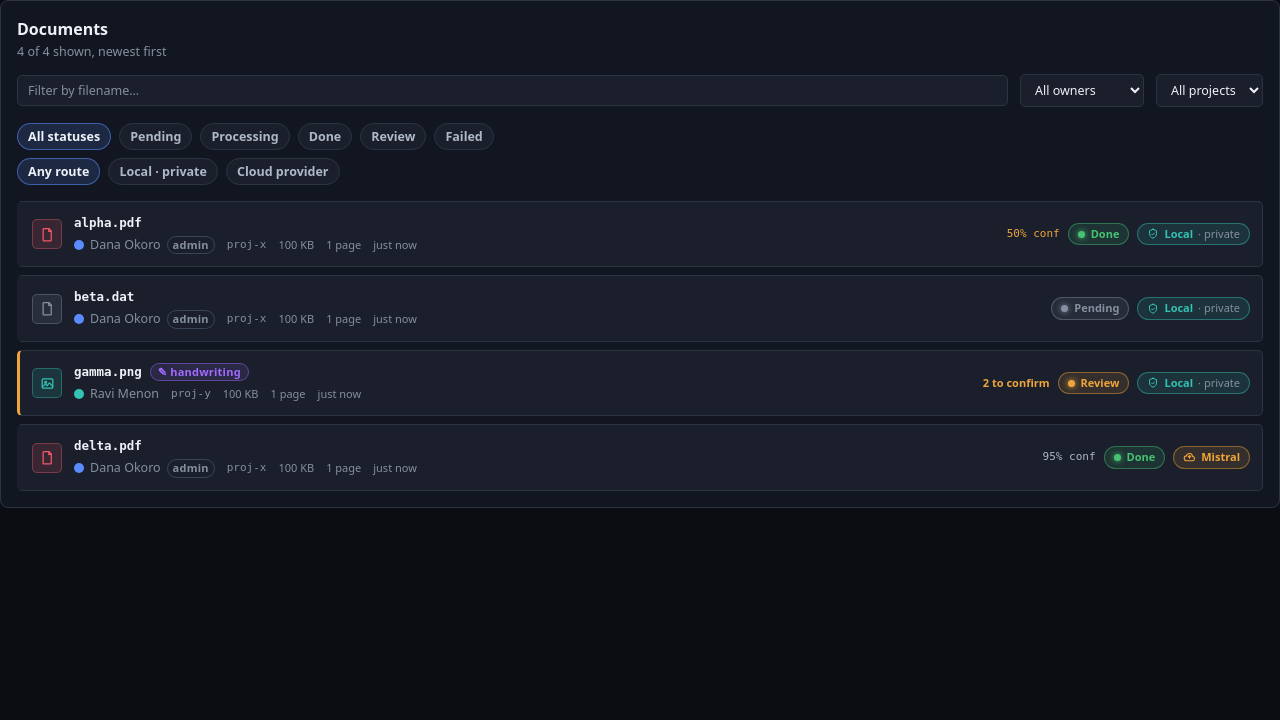
it: DocumentList — filters › filters by owner and by project
Expected: the text "4 of 4 shown, newest first" is shown, [17,43,166,62]
Select "Ravi Menon" in the dropdown named "Filter by owner". click: point(1082, 90)
box: [1020,74,1144,107]
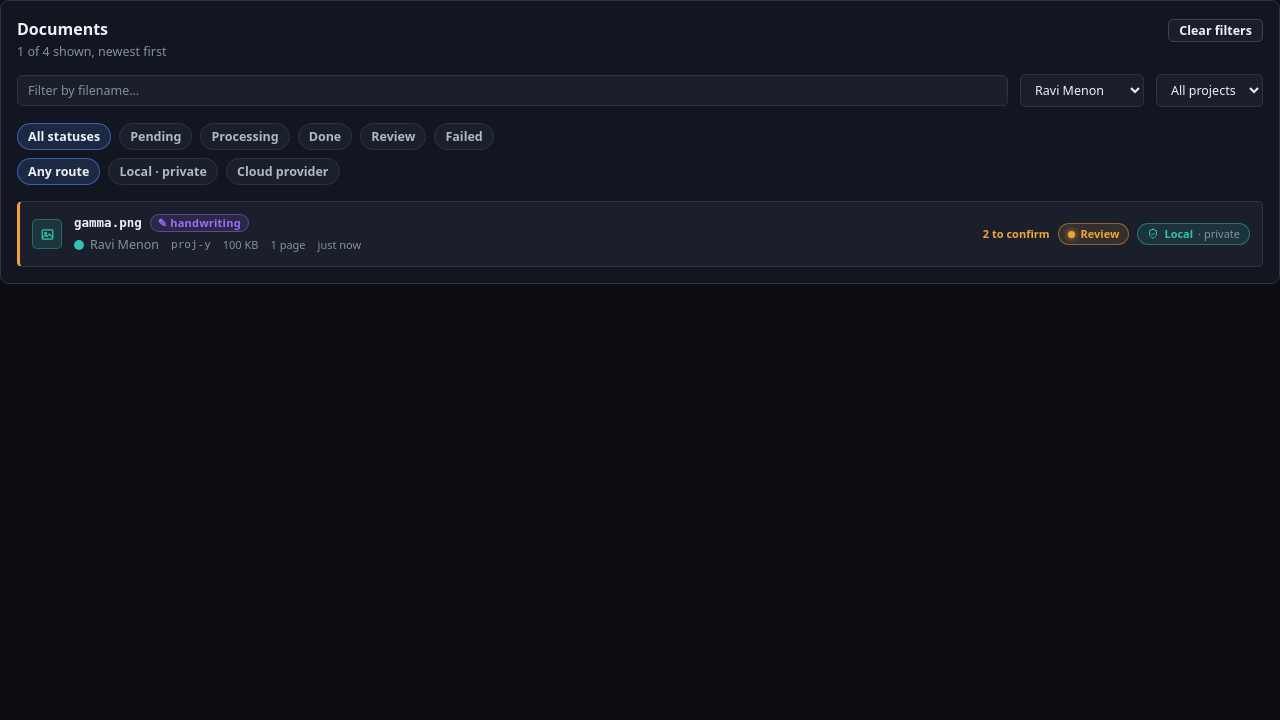
Expected: the text "gamma.png" is shown, [74,214,142,233]
Now the text "1 of 4 shown, newest first" is shown, box [17,43,166,62]
Click the button "Clear filters". click: point(1216, 30)
box: [1168,19,1263,42]
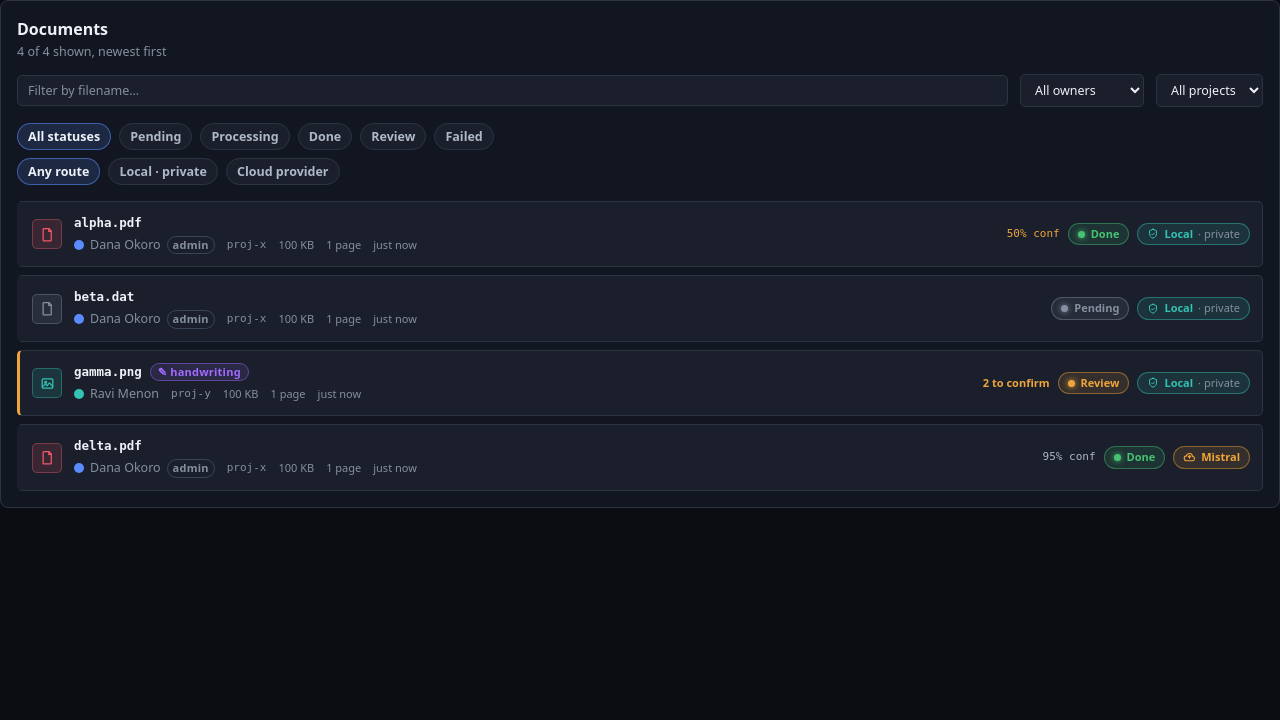
Select "proj-y" in the dropdown named "Filter by project". click: point(1210, 90)
box: [1156,74,1263,107]
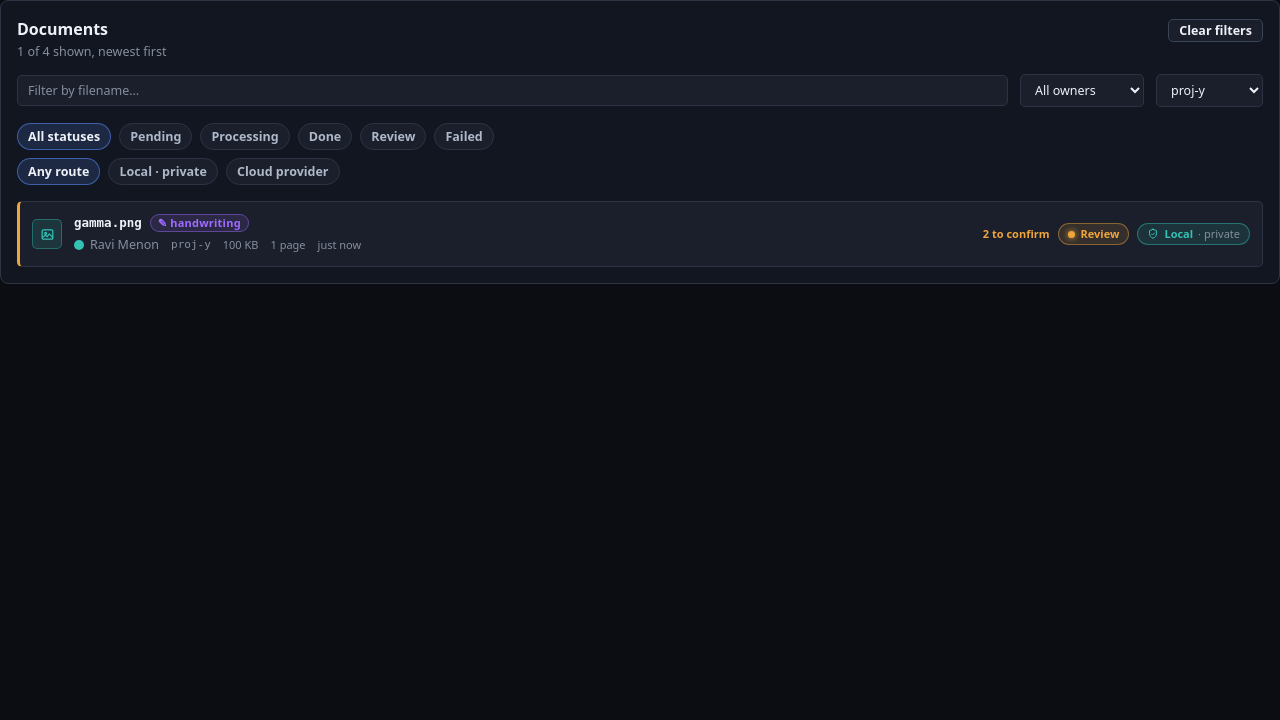
Now the text "1 of 4 shown, newest first" is shown, box [17,43,166,62]
